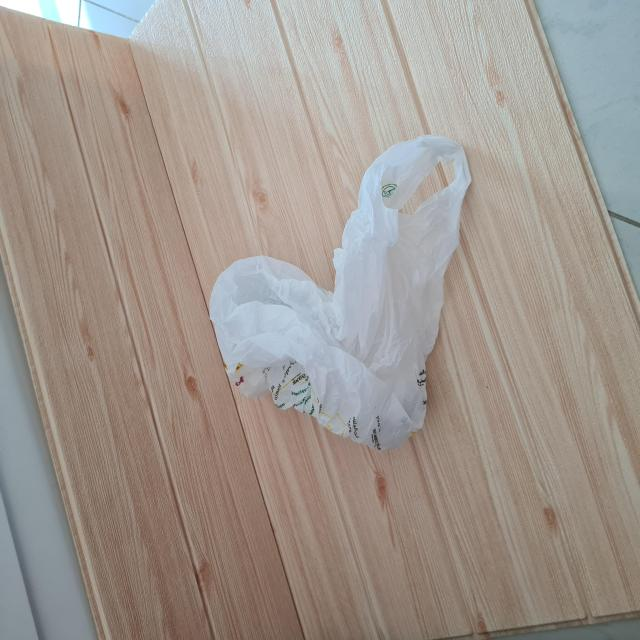plastic bag: (208, 135, 474, 456)
